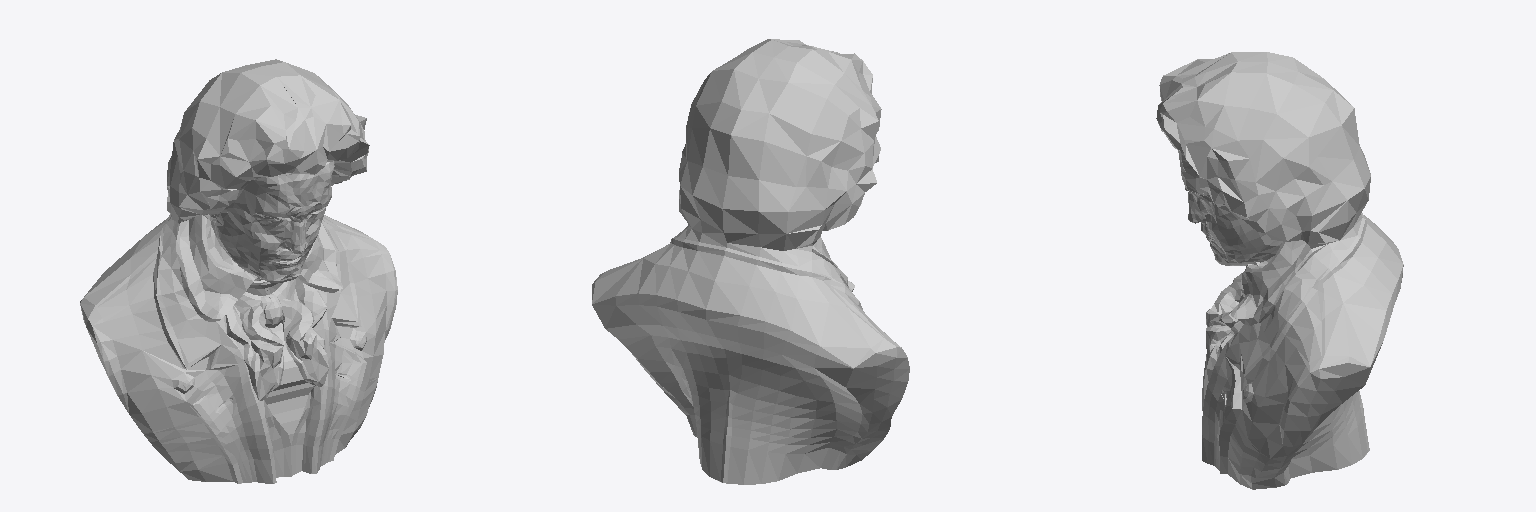
Rendered from beethoven.obj.
3 renders of one model, left to right at view 1: azimuth 30°, elevation 25°; view 2: azimuth 150°, elevation 25°; view 3: azimuth 270°, elevation 25°, orthographic.
Parts seen in each view (by area): view 1: object; view 2: object; view 3: object.
Part boxes in pixels (x1,y1,x2,y2): object: (80, 59, 397, 483); object: (592, 39, 909, 484); object: (1156, 52, 1403, 489).
Bounding box in the file's own units: 9.3 × 11.58 × 6.67.